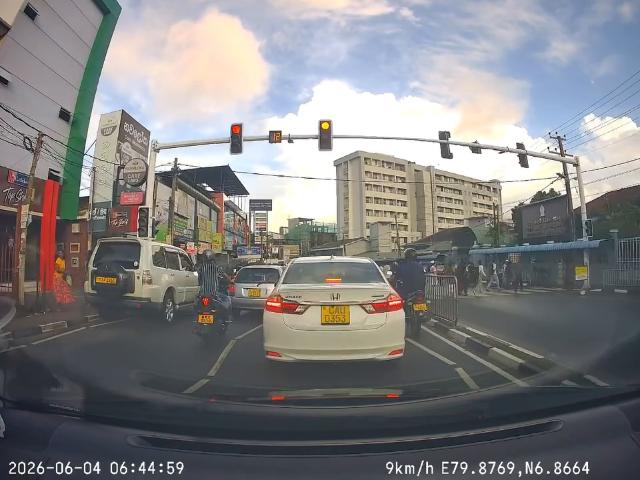number plate: (317, 301, 357, 330)
traffic light red: (225, 123, 252, 161)
